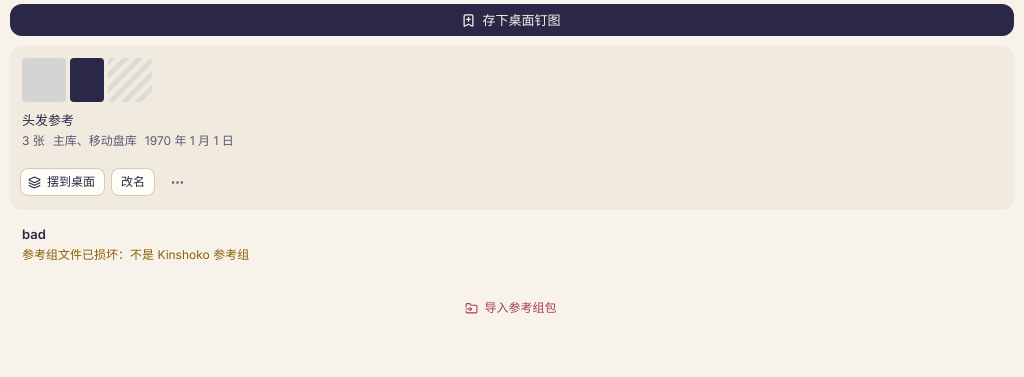
Test case: 参考组面板 › 起名时按 Esc 或关闭按钮取消，回到“存下桌面钉图”
This screenshot has width=1024, height=377.
Click the button "存下桌面钉图" at coordinates (512, 20), box [10, 4, 1014, 36]
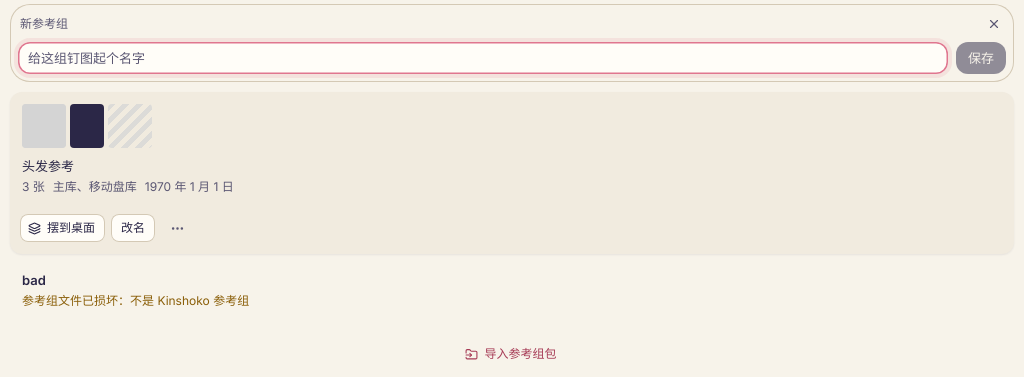
Press Escape in the field named "新参考组名称", box [18, 42, 948, 74]
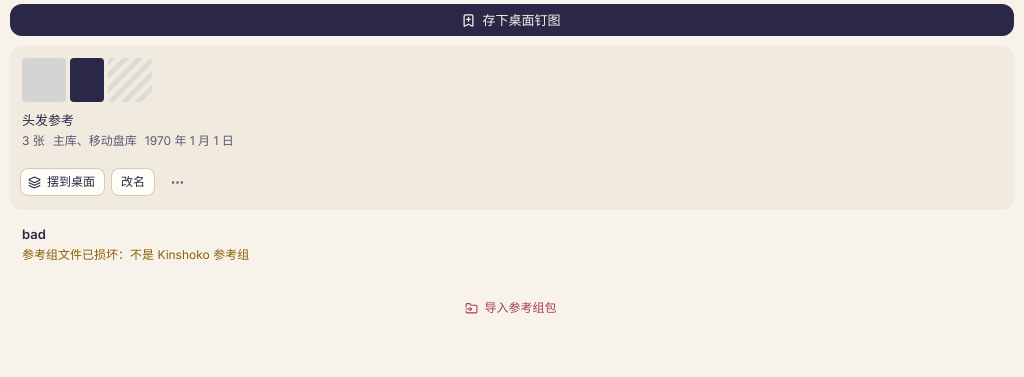
Result: the field labelled "新参考组名称" is gone
Click the button "存下桌面钉图" at coordinates (512, 20), box [10, 4, 1014, 36]
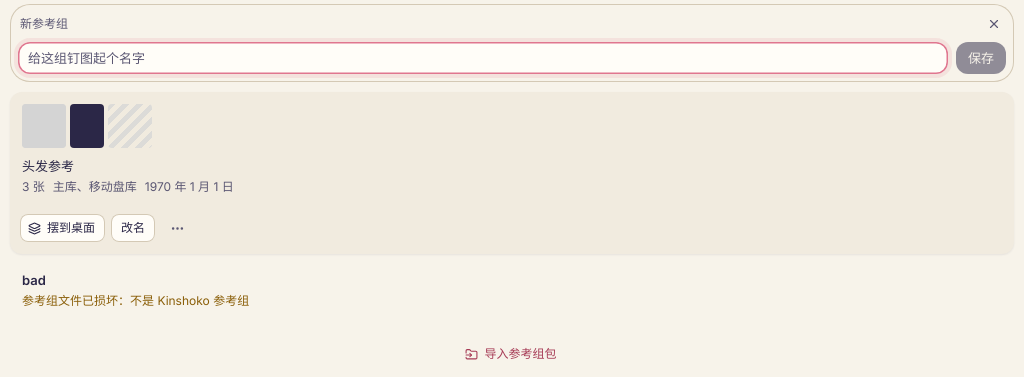
Click the button named "取消" at coordinates (994, 24), box [982, 12, 1006, 36]
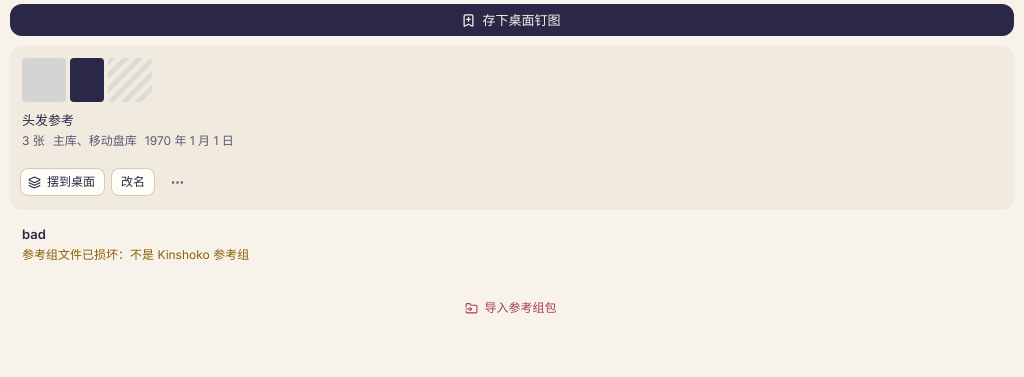
Result: the field labelled "新参考组名称" is gone
